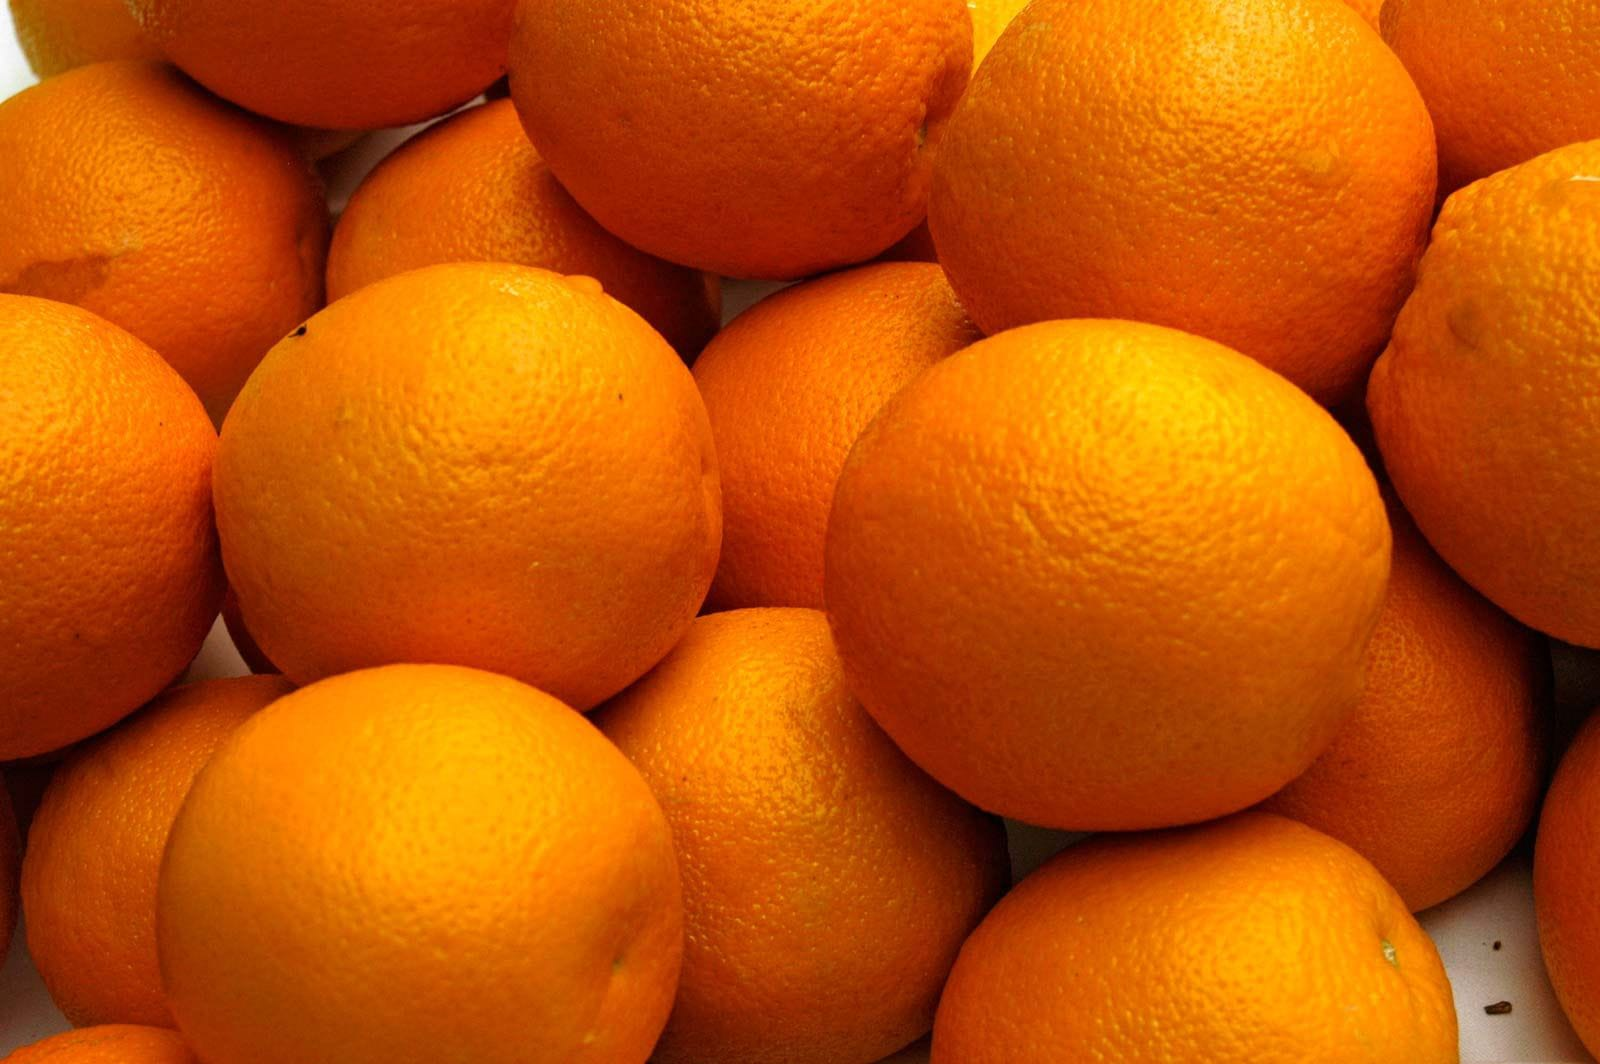Good Orange: (831, 311, 1379, 811), (159, 650, 706, 1064), (212, 271, 743, 695), (921, 791, 1445, 1064)
